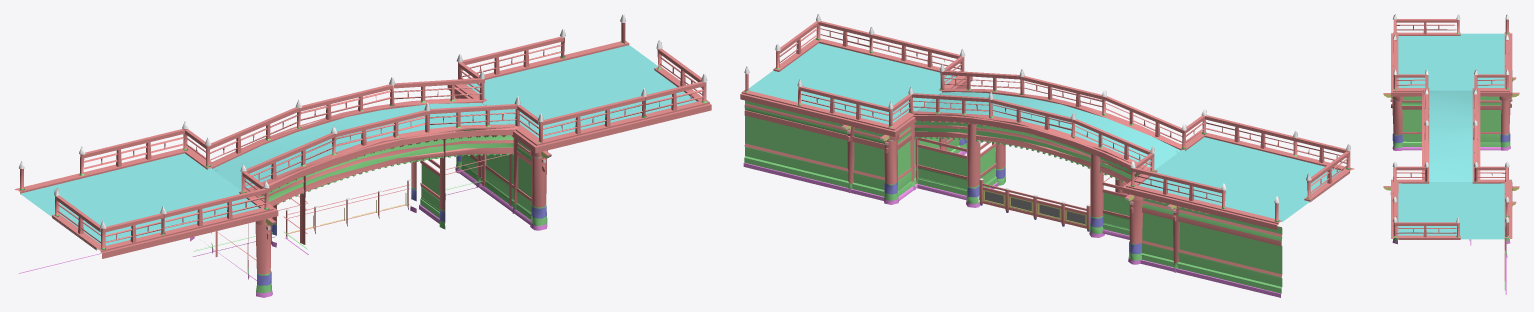
File: SM_ENV_LKNVLD_WallSet_Bridge_Lod2.gltf
The picture shows the model from 3 angles, left to right: view 1: azimuth 30°, elevation 25°; view 2: azimuth 150°, elevation 25°; view 3: azimuth 270°, elevation 25°; orthographic projection. The views are drawn at different scales.
Visible parts, largest first — view 1: SM_ENV_LKNVLD_WallSet_Bridge_Lod2; view 2: SM_ENV_LKNVLD_WallSet_Bridge_Lod2; view 3: SM_ENV_LKNVLD_WallSet_Bridge_Lod2.
Part boxes in pixels (<box>): SM_ENV_LKNVLD_WallSet_Bridge_Lod2: <box>14,14,711,297</box>; SM_ENV_LKNVLD_WallSet_Bridge_Lod2: <box>740,14,1354,297</box>; SM_ENV_LKNVLD_WallSet_Bridge_Lod2: <box>1383,14,1519,294</box>.
Bounding box in the file's own units: 44.9 × 9.57 × 12.56.
